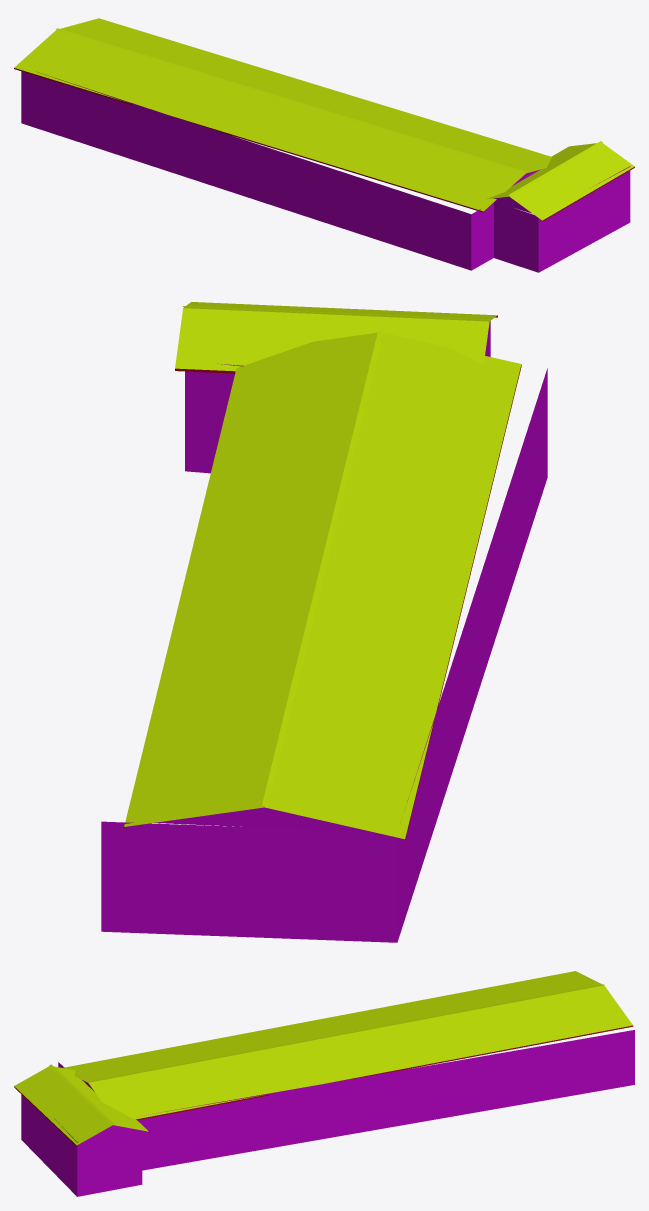
The model's file is bgj_187.glb.
3 renders of one model, top to bottom at view 1: azimuth 30°, elevation 25°; view 2: azimuth 150°, elevation 25°; view 3: azimuth 270°, elevation 25°, orthographic. The views are drawn at different scales.
Visible parts, largest first — view 1: bgj_187; view 2: bgj_187; view 3: bgj_187.
Part boxes in pixels (bbox=[...]): bgj_187: bbox=[14, 18, 634, 272]; bgj_187: bbox=[101, 302, 547, 942]; bgj_187: bbox=[14, 971, 634, 1196].
Size of the model in its own units: 37.13 by 6.8 by 56.05.
